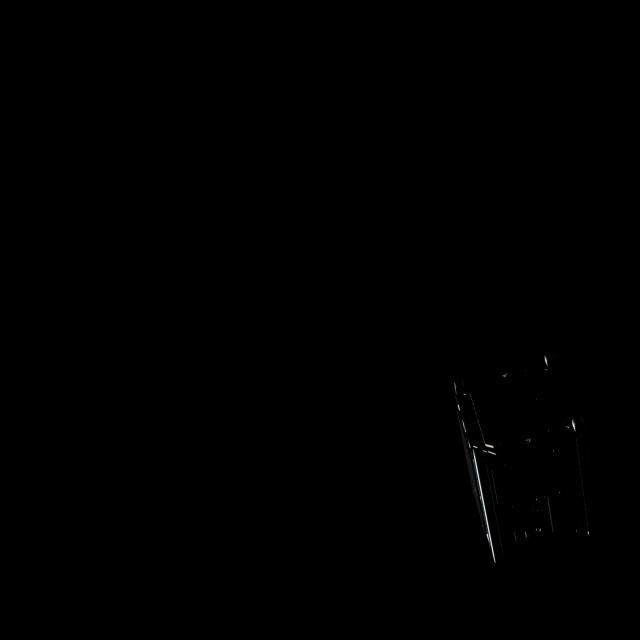medium_debris: (439, 350, 607, 572)
